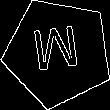M_S: (32, 24, 84, 81)
